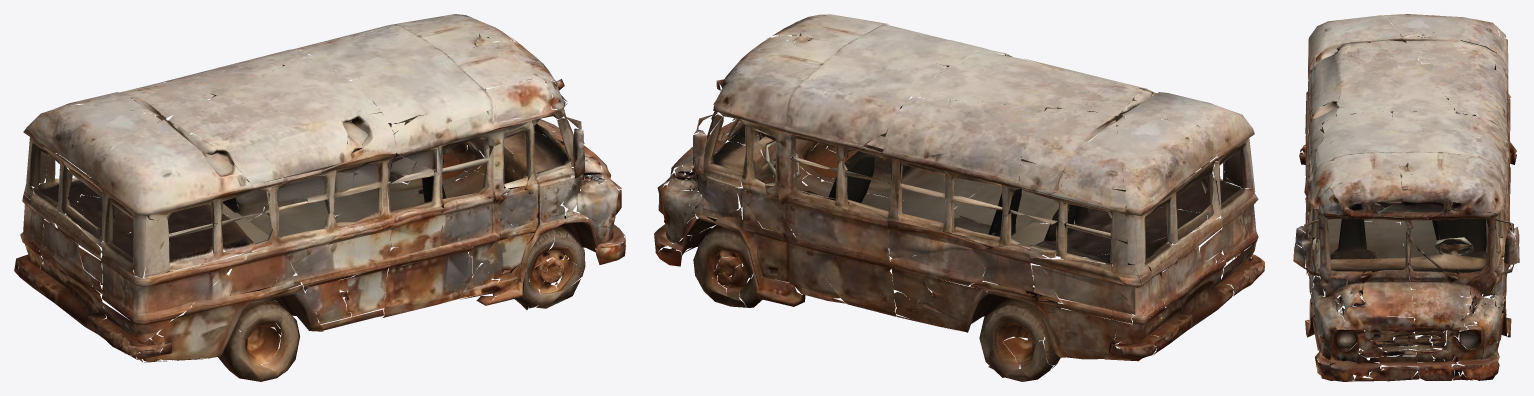
The model's file is bus_wreck.glb.
3 renders of one model, left to right at view 1: azimuth 30°, elevation 25°; view 2: azimuth 150°, elevation 25°; view 3: azimuth 270°, elevation 25°, orthographic. The views are drawn at different scales.
Visible parts, largest first — view 1: tripo_node_f69e080b-76d0-471a-8d28-579c8f73866f; view 2: tripo_node_f69e080b-76d0-471a-8d28-579c8f73866f; view 3: tripo_node_f69e080b-76d0-471a-8d28-579c8f73866f.
Boxes of the visible parts, <box> form: tripo_node_f69e080b-76d0-471a-8d28-579c8f73866f: <box>14,14,625,381</box>; tripo_node_f69e080b-76d0-471a-8d28-579c8f73866f: <box>654,14,1264,381</box>; tripo_node_f69e080b-76d0-471a-8d28-579c8f73866f: <box>1293,14,1519,381</box>.
Size of the model in its own units: 0.9986 by 0.4492 by 0.453.
1 material, 1 textured.
